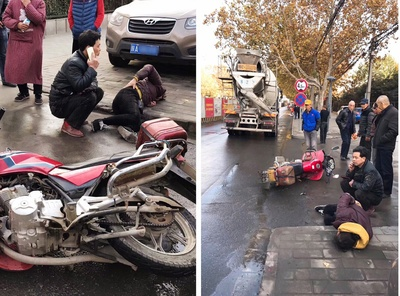falling: (310, 189, 378, 254)
